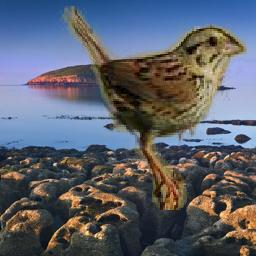Sparrow: (61, 6, 248, 210)
